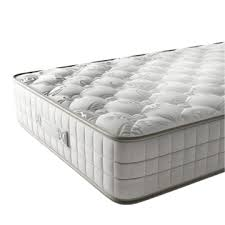bed-matress: (12, 38, 225, 204)
